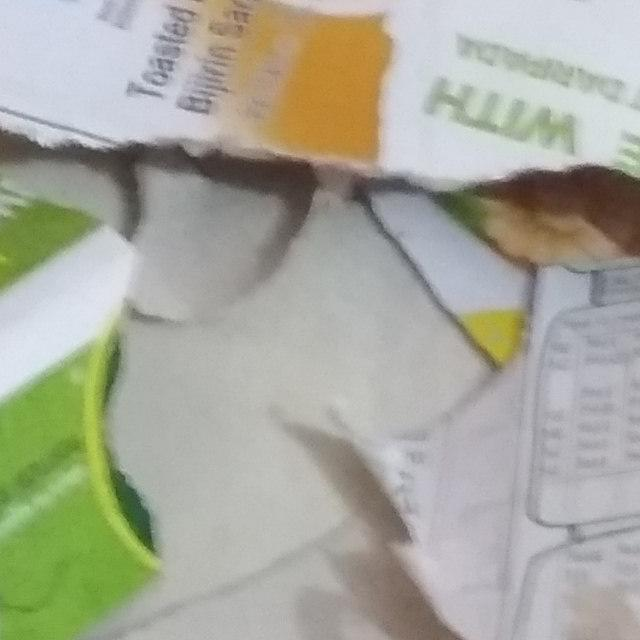paper: (0, 0, 640, 287), (300, 183, 640, 640), (0, 16, 200, 640)
